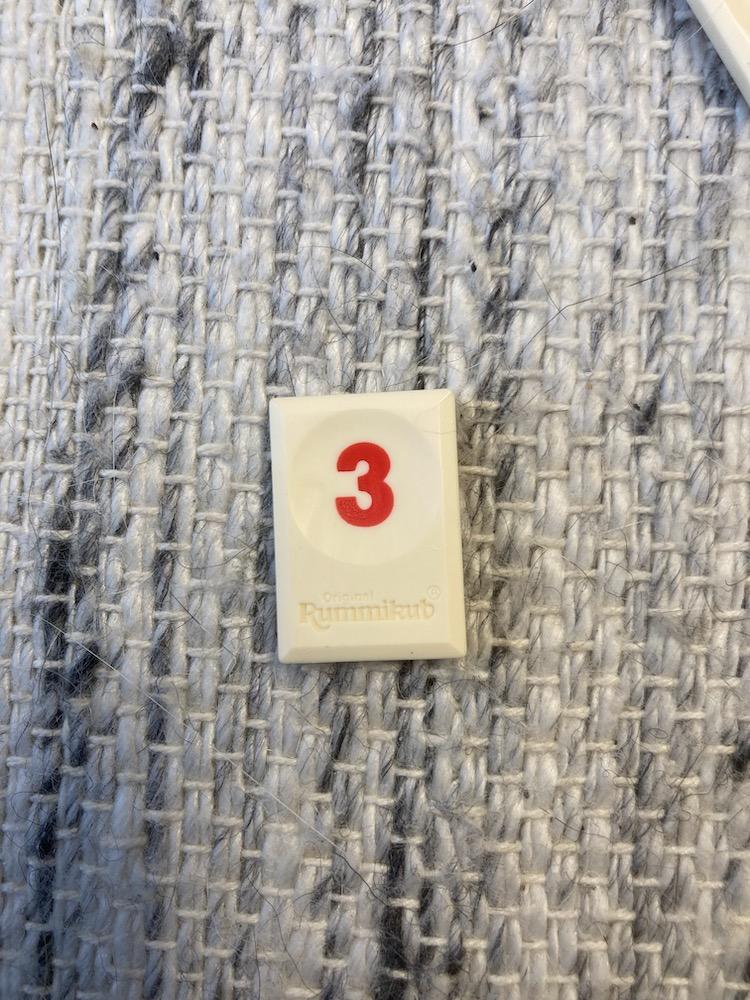red_3: (270, 389, 467, 662)
